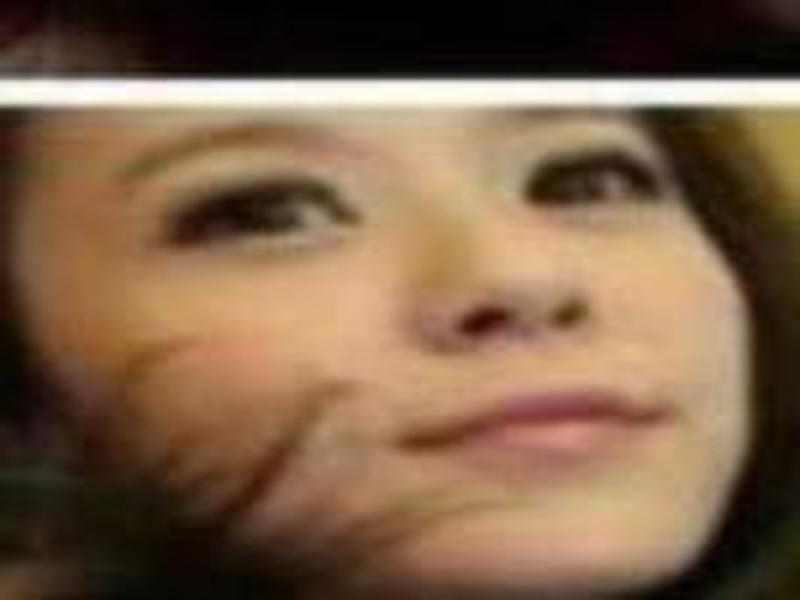without_mask: (2, 104, 746, 587)
